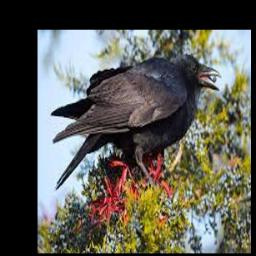Crow: (52, 55, 222, 191)
